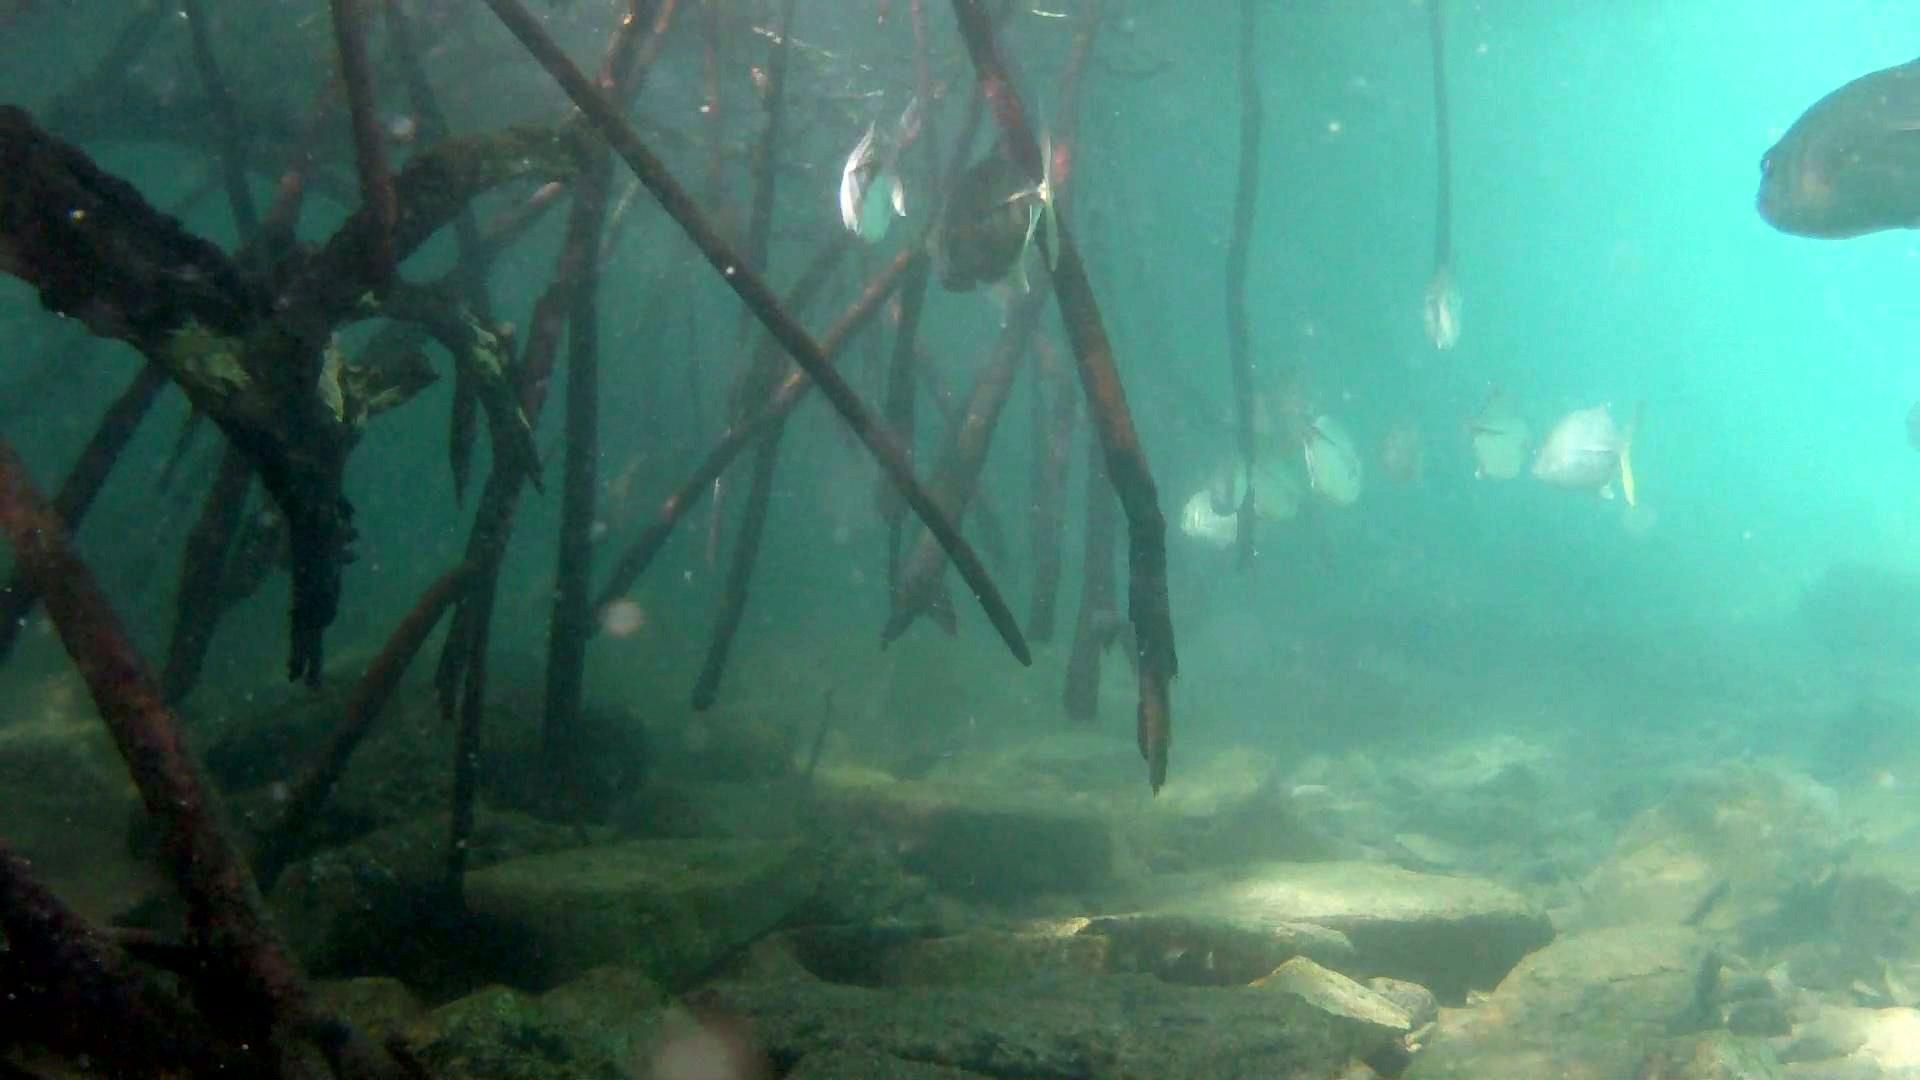caranx: (1738, 35, 1920, 259), (908, 115, 1079, 296)
